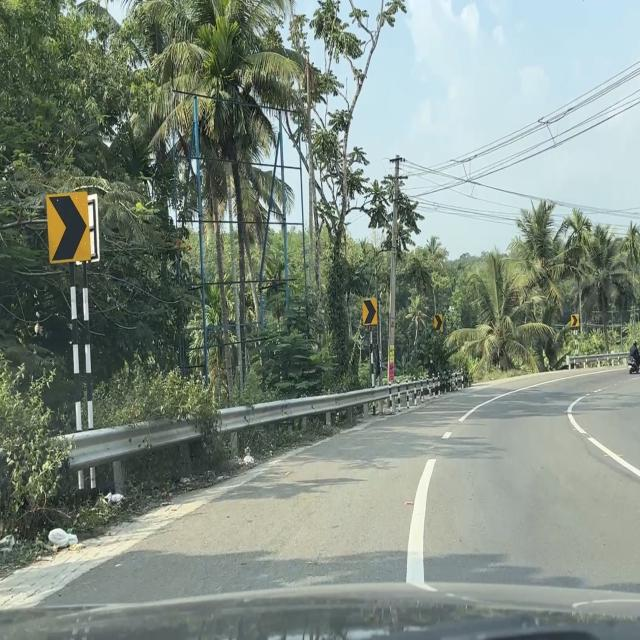TURN_RIGHT: (45, 190, 92, 266), (362, 298, 378, 326), (433, 314, 443, 331), (571, 314, 578, 326)
